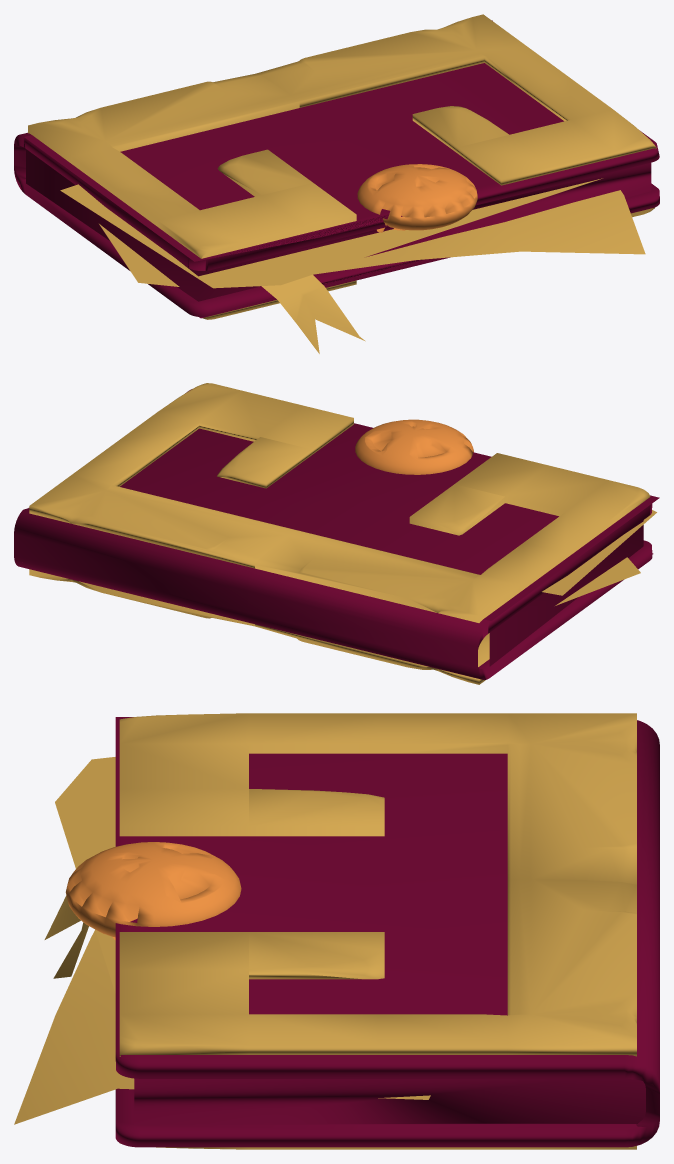
File: Book Final.fbx
The picture shows the model from 3 angles, top to bottom: view 1: azimuth 30°, elevation 25°; view 2: azimuth 150°, elevation 25°; view 3: azimuth 270°, elevation 25°; orthographic projection. The views are drawn at different scales.
Parts seen in each view (by area): view 1: Sphere; view 2: Sphere; view 3: Sphere.
Part boxes in pixels (x1=…): Sphere: x1=14, y1=14, x2=659, y2=353; Sphere: x1=14, y1=383, x2=659, y2=684; Sphere: x1=14, y1=713, x2=659, y2=1149.
Bounding box in the file's own units: 206 × 48.52 × 157.
